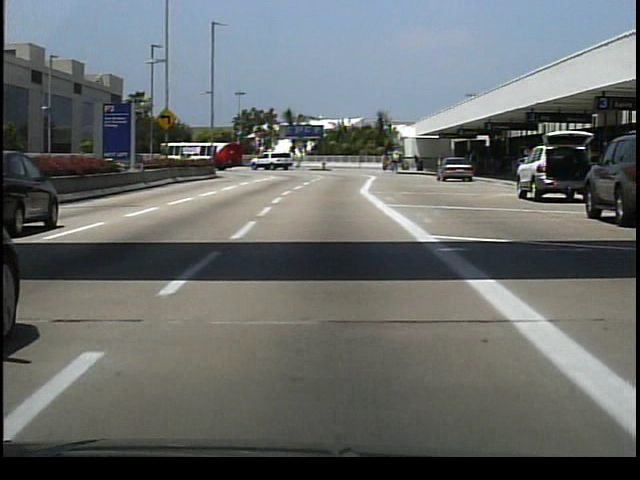person: (466, 150, 481, 180), (390, 151, 400, 177)
